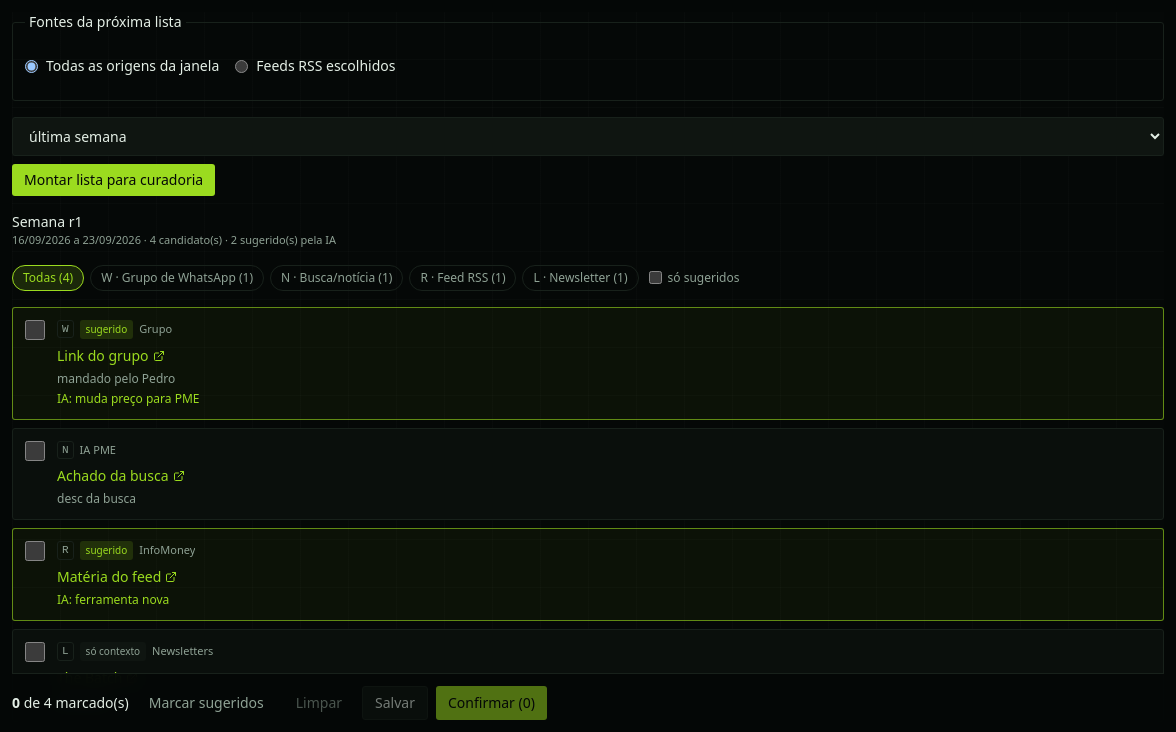
Test: marcar, salvar e confirmar › "Marcar sugeridos" marca só os sugeridos, e Salvar grava a marcação sem confirmar
This screenshot has width=1176, height=732.
Expected: the checkbox named "Marcar: Link do grupo" is shown, [25, 320, 45, 340]
What coordinates should you click on to do the following:
click the button "Marcar sugeridos"
I would click on:
 (206, 703)
Its box is [137, 686, 276, 720].
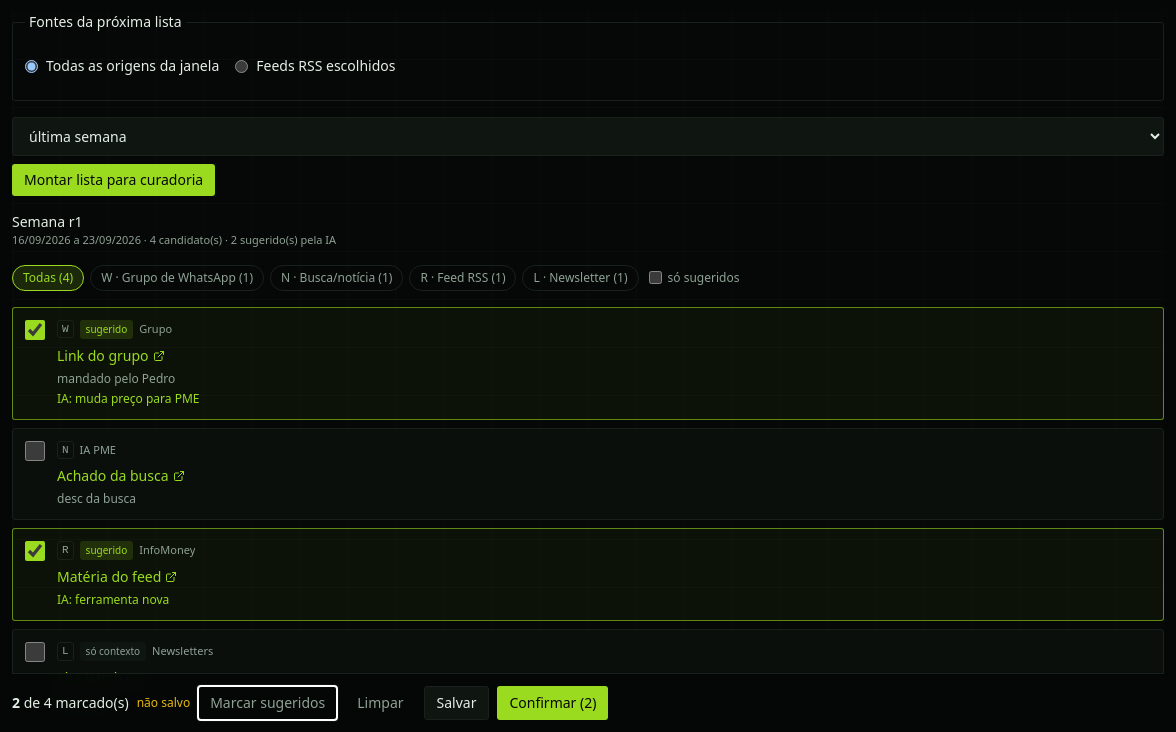
Now the checkbox named "Marcar: Link do grupo" is checked, box [25, 320, 45, 340]
Now the checkbox named "Marcar: Matéria do feed" is checked, box [25, 541, 45, 561]
What coordinates should you click on to do the following:
click the button "Salvar"
I would click on:
 (456, 703)
Its box is [424, 686, 489, 720].
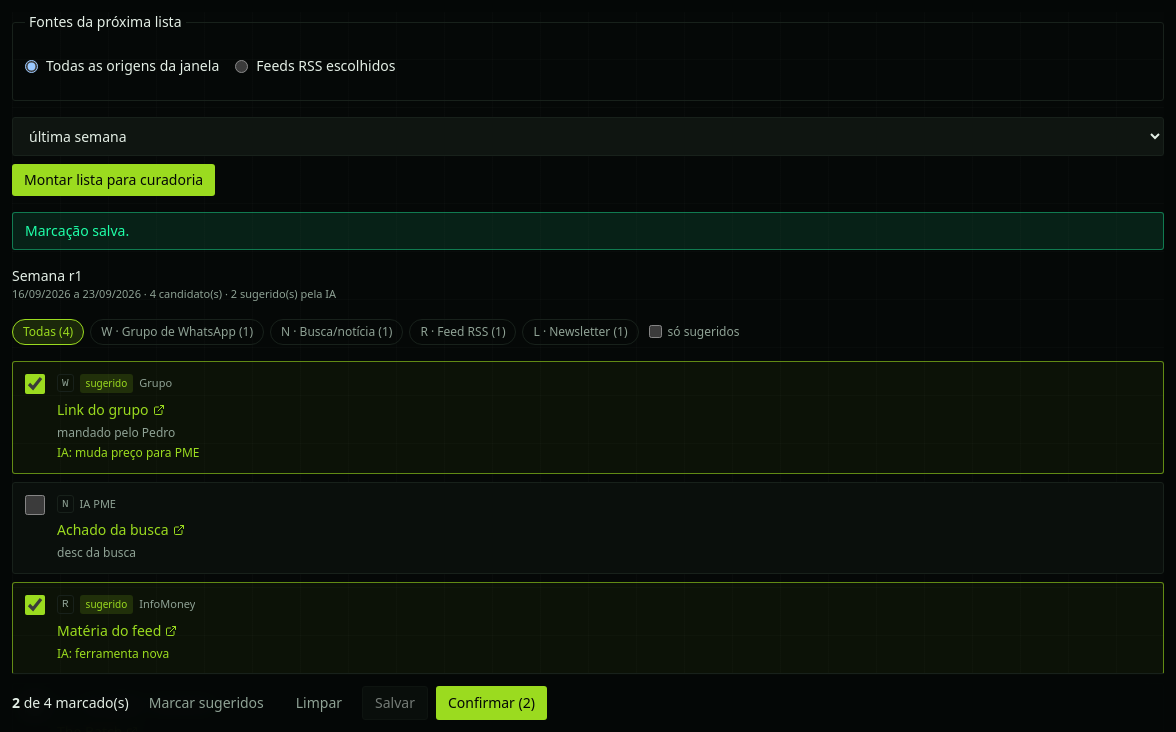
Now the text "não salvo" is gone
Now the button "Salvar" is disabled, box [362, 686, 428, 720]
